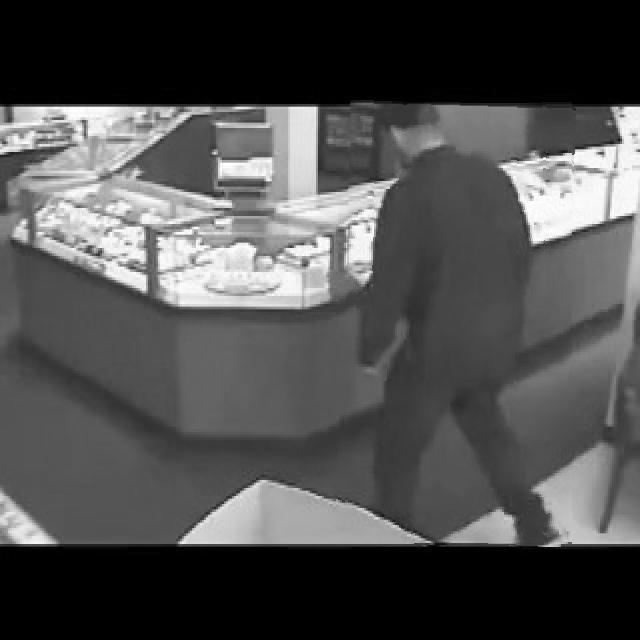Normal: (339, 102, 572, 546)
